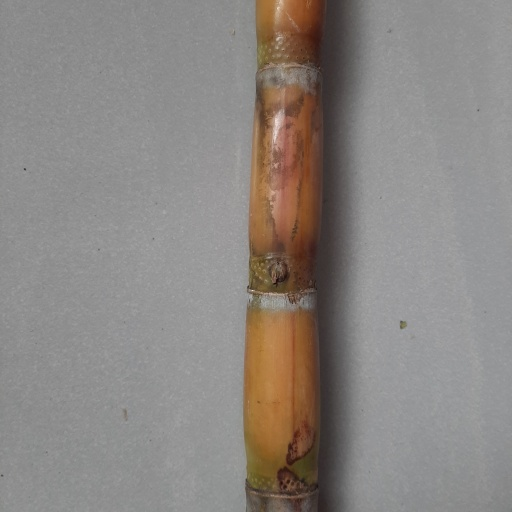Bud: (267, 258, 288, 287)
